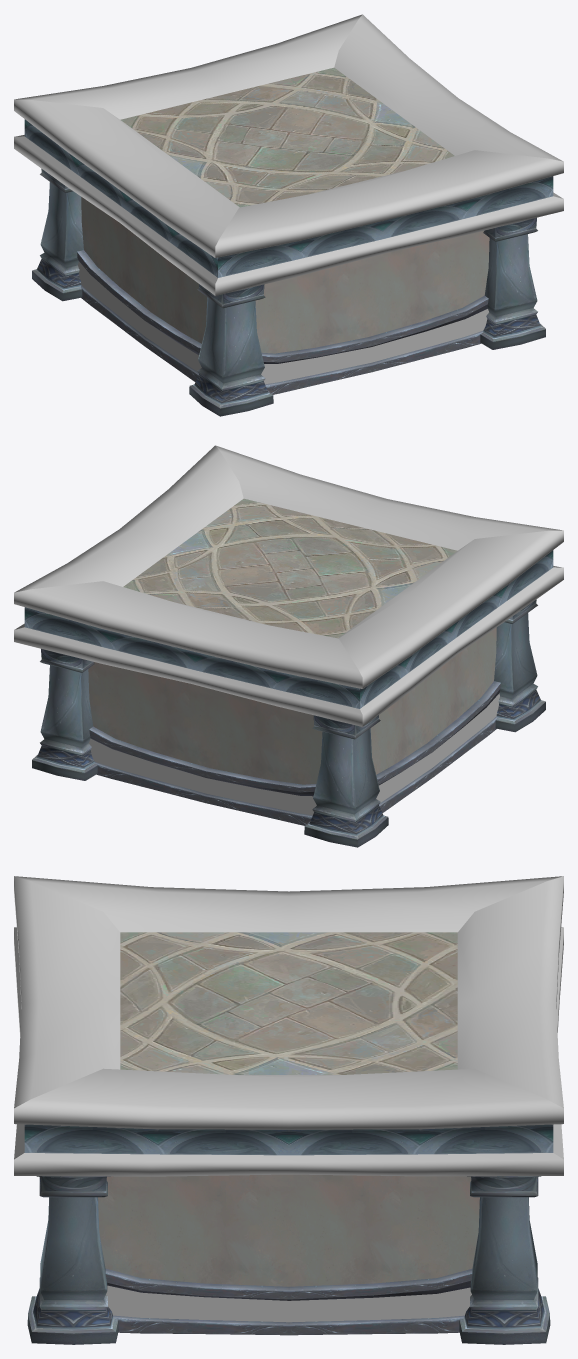
File: Roof.fbx
3 renders of one model, top to bottom at view 1: azimuth 30°, elevation 25°; view 2: azimuth 150°, elevation 25°; view 3: azimuth 270°, elevation 25°, orthographic. The views are drawn at different scales.
Visible parts, largest first — view 1: 7sr_suramarcity_single_roof_a; view 2: 7sr_suramarcity_single_roof_a; view 3: 7sr_suramarcity_single_roof_a.
Part boxes in pixels (box(x1,y1,x2,y2)): 7sr_suramarcity_single_roof_a: box(14, 14, 563, 416); 7sr_suramarcity_single_roof_a: box(14, 445, 563, 847); 7sr_suramarcity_single_roof_a: box(14, 876, 563, 1344).
Bounding box in the file's own units: 2477 × 1236 × 2477.
